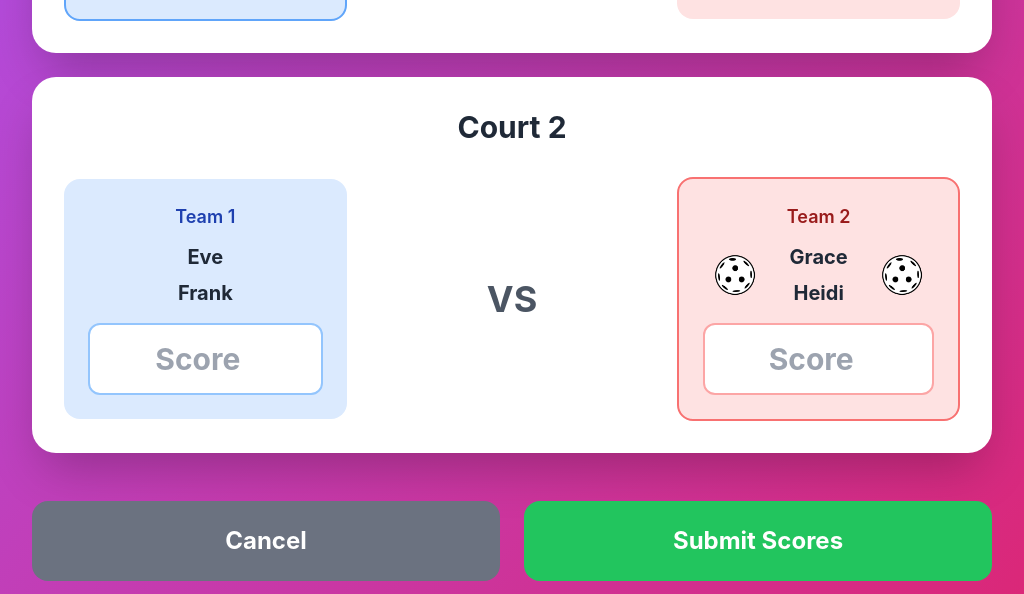
Test: ScoreEntry › Validation › requires at least one complete score
(page scrolled)
Don't enter any scores
Click the button "Submit Scores" at [758, 541], box [524,501,992,581]
(page scrolled)
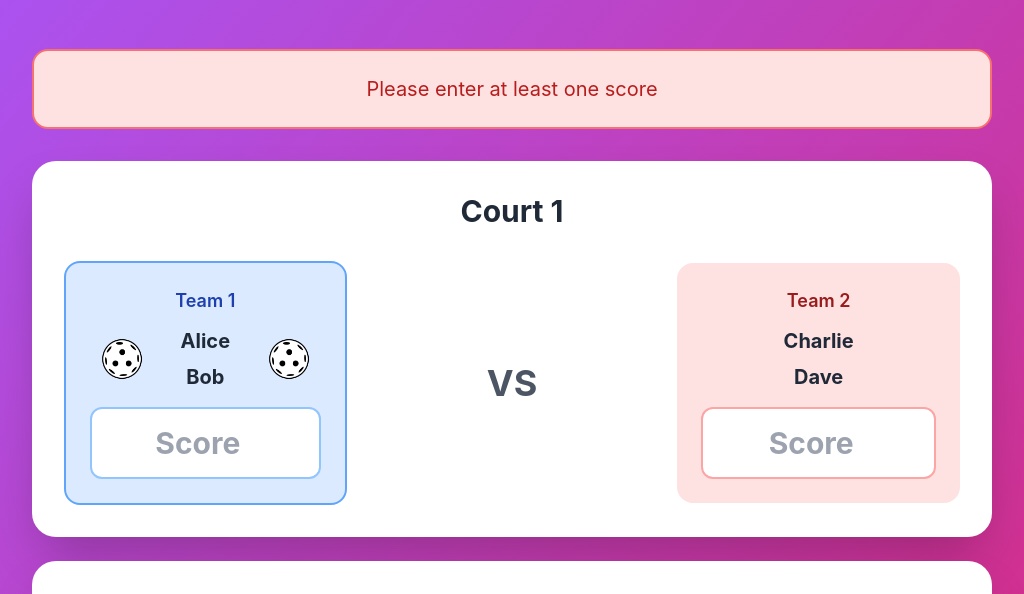
Expected: the text "Please enter at least one score" is shown, [32,49,992,129]
